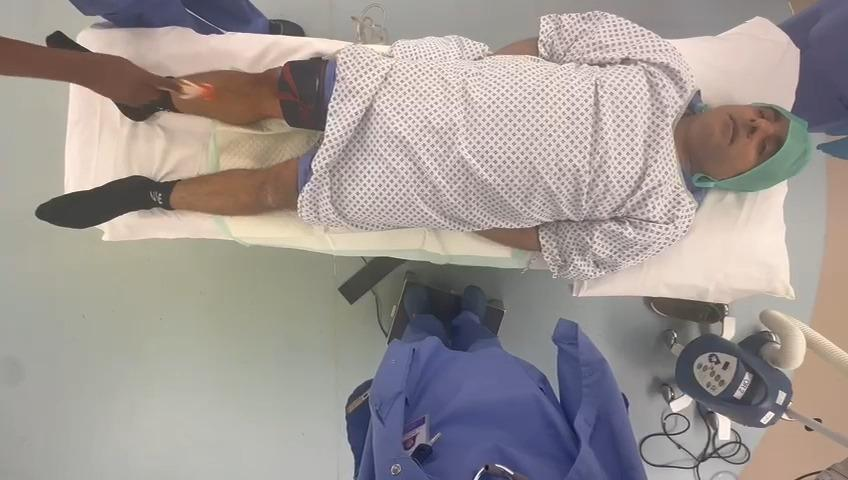bed: (36, 13, 810, 302)
patient: (36, 12, 810, 279)
prepstick: (176, 78, 215, 100)
tourniquet: (278, 58, 336, 130)
